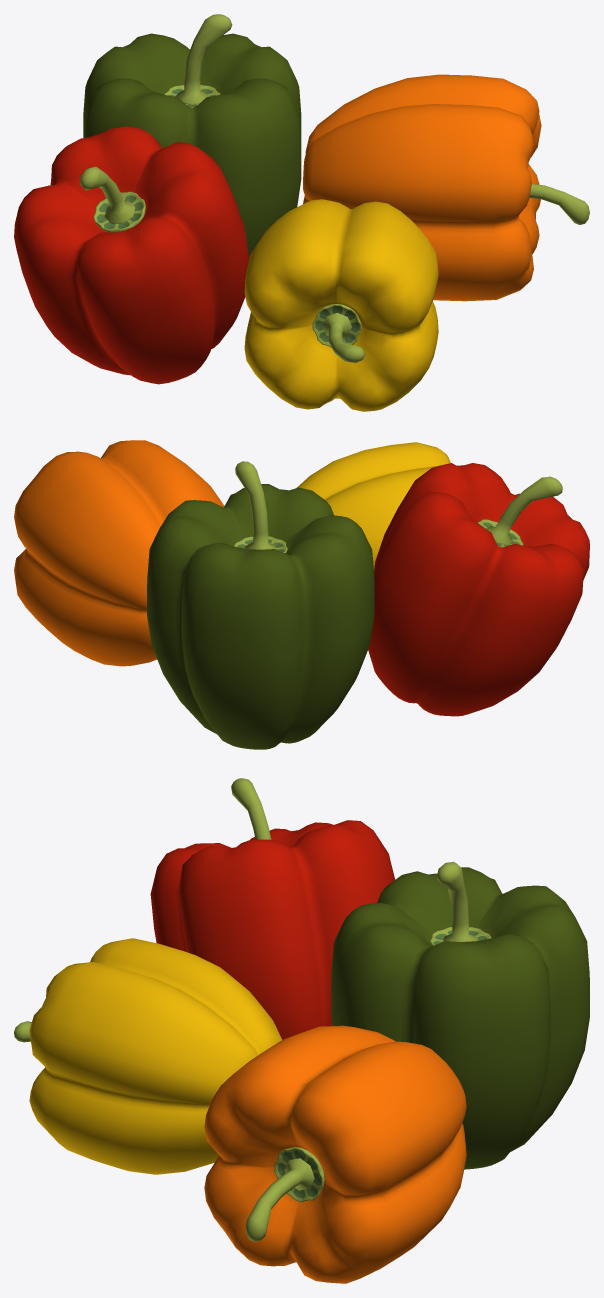
Rendered from bel.gltf.
3 renders of one model, top to bottom at view 1: azimuth 30°, elevation 25°; view 2: azimuth 150°, elevation 25°; view 3: azimuth 270°, elevation 25°, orthographic. The views are drawn at different scales.
Visible parts, largest first — view 1: Group#3 (×4), Group#10 (×4), Group#11 (×4), Group#12 (×4), Component#3 (×4); view 2: Group#12 (×4), Group#3 (×4), Group#10 (×3), Group#11 (×2), Component#3 (×2); view 3: Group#10 (×4), Group#12 (×4), Group#11 (×3), Group#3 (×3), Component#3 (×3).
Part boxes in pixels (left/top/right/bottom): Group#3 (×4): left=14, top=126, right=249, bottom=384; Group#10 (×4): left=303, top=74, right=541, bottom=301; Group#11 (×4): left=244, top=199, right=438, bottom=411; Group#12 (×4): left=83, top=33, right=301, bottom=258; Component#3 (×4): left=79, top=14, right=589, bottom=362; Group#12 (×4): left=147, top=484, right=374, bottom=749; Group#3 (×4): left=368, top=463, right=589, bottom=716; Group#10 (×3): left=14, top=440, right=224, bottom=666; Group#11 (×2): left=297, top=442, right=450, bottom=569; Component#3 (×2): left=235, top=461, right=562, bottom=549; Group#10 (×4): left=204, top=1025, right=466, bottom=1283; Group#12 (×4): left=331, top=867, right=589, bottom=1169; Group#11 (×3): left=29, top=938, right=281, bottom=1174; Group#3 (×3): left=150, top=820, right=395, bottom=1039; Component#3 (×3): left=231, top=778, right=478, bottom=1241.
Size of the model in its own units: 0.1708 by 0.0807 by 0.1417.
